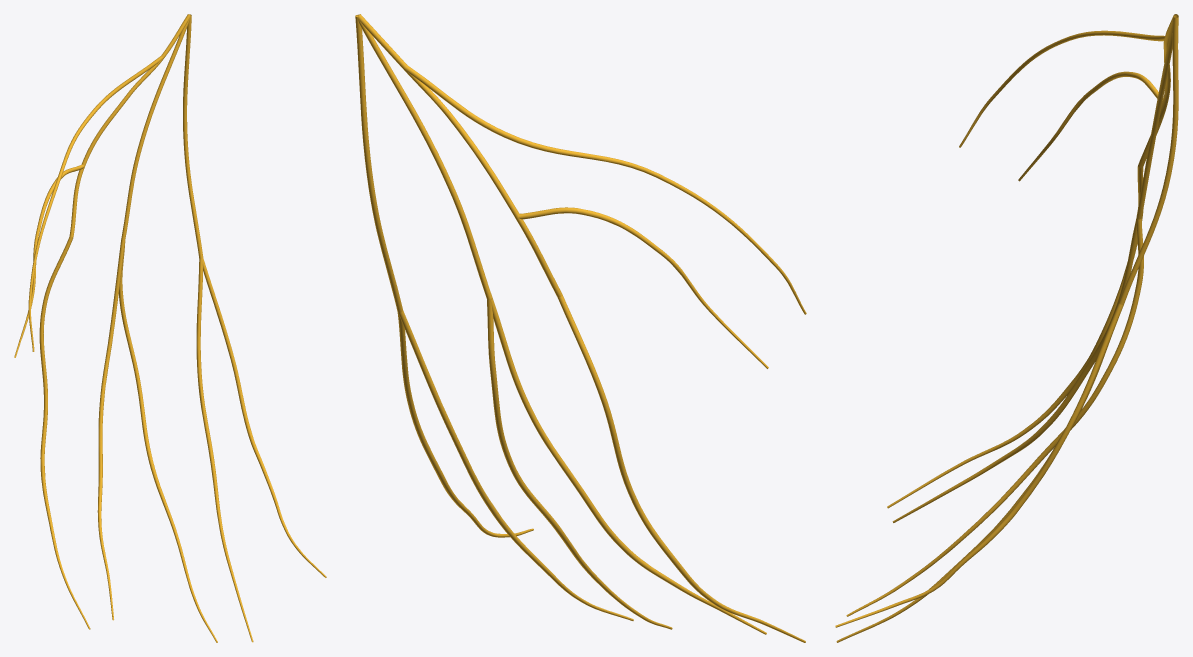
The model's file is nervoso-common-palmar-digital-branches-of-median-nerve-r.glb.
The picture shows the model from 3 angles, left to right: view 1: azimuth 30°, elevation 25°; view 2: azimuth 150°, elevation 25°; view 3: azimuth 270°, elevation 25°; orthographic projection. The views are drawn at different scales.
Parts seen in each view (by area): view 1: Proper palmar digital branches of median nerve.r, Common palmar digital branches of median nerve.r; view 2: Proper palmar digital branches of median nerve.r, Common palmar digital branches of median nerve.r; view 3: Proper palmar digital branches of median nerve.r, Common palmar digital branches of median nerve.r.
Part boxes in pixels (<box>): Proper palmar digital branches of median nerve.r: <box>14,56,326,642</box>; Common palmar digital branches of median nerve.r: <box>69,14,203,258</box>; Proper palmar digital branches of median nerve.r: <box>397,65,806,642</box>; Common palmar digital branches of median nerve.r: <box>355,14,562,312</box>; Proper palmar digital branches of median nerve.r: <box>835,30,1164,642</box>; Common palmar digital branches of median nerve.r: <box>1119,14,1178,304</box>.
Bounding box in the file's own units: 0.067 × 0.1345 × 0.0625.
